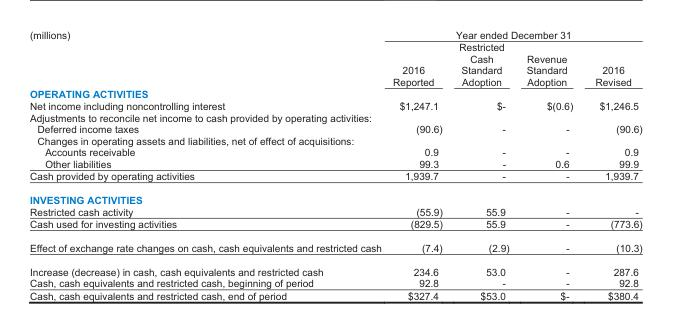table: (28, 28, 641, 300)
table column: (28, 28, 386, 300), (449, 28, 517, 300), (517, 28, 583, 300), (386, 28, 449, 300), (583, 28, 641, 300)
table column header: (28, 28, 641, 87)
table projected row header: (28, 187, 641, 205), (28, 87, 641, 99), (28, 134, 641, 146), (28, 111, 641, 122)
table row: (28, 40, 641, 87), (28, 235, 641, 259), (28, 169, 641, 187), (28, 187, 641, 205), (28, 217, 641, 235), (28, 259, 641, 277), (28, 28, 641, 40), (28, 87, 641, 99), (28, 99, 641, 111), (28, 122, 641, 134), (28, 134, 641, 146), (28, 157, 641, 169), (28, 205, 641, 217), (28, 277, 641, 289), (28, 111, 641, 122), (28, 146, 641, 157), (28, 289, 641, 300)
table spanning cell: (28, 28, 386, 87), (386, 28, 641, 40)
